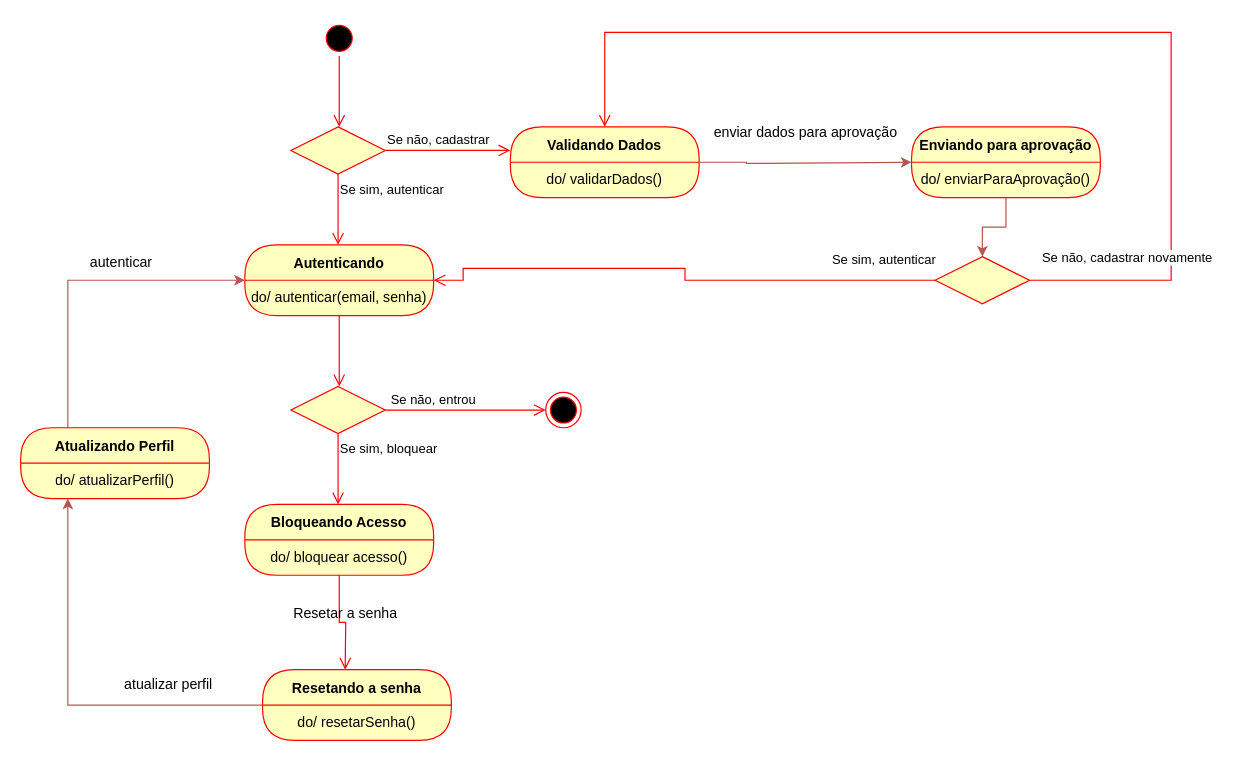
Image size: 1233x761. Some labels were removed from this diagram. The centre of each missing label's shape, as x and y in pixels:
"Aprovado?" belongs at point 982,279.
"Cadastrado?" belongs at point 337,150.
"Falhou muitas vezes?" belongs at point 337,409.
